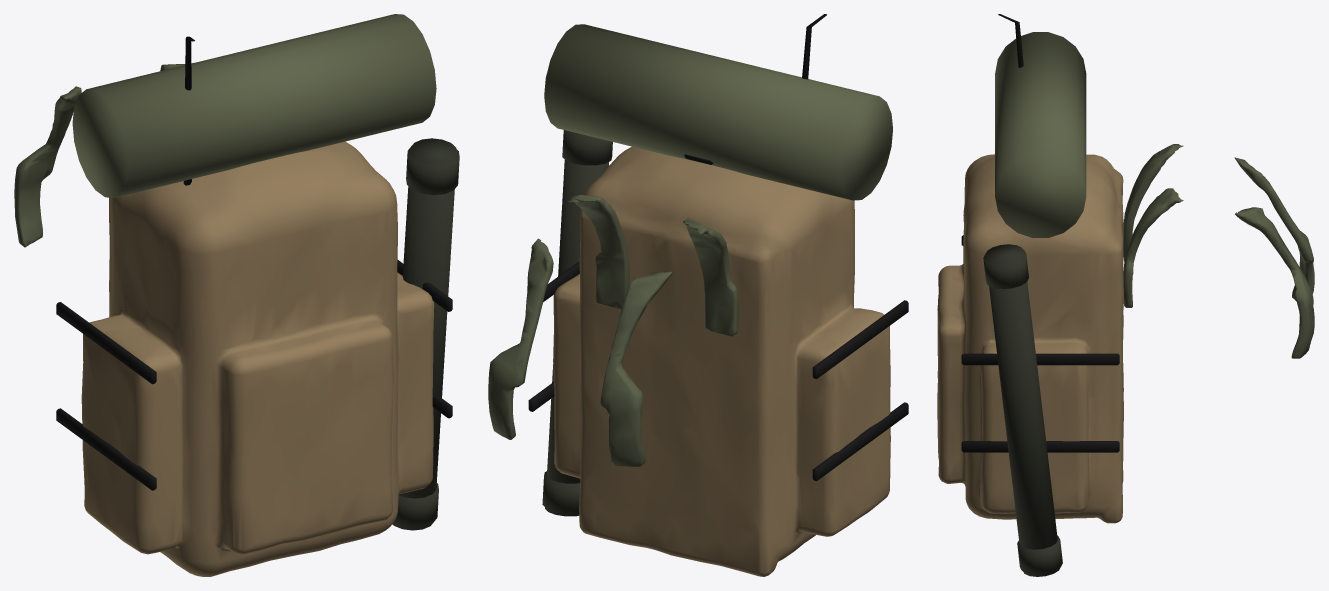
File: pack_ruck.glb
3 renders of one model, left to right at view 1: azimuth 30°, elevation 25°; view 2: azimuth 150°, elevation 25°; view 3: azimuth 270°, elevation 25°, orthographic. The views are drawn at different scales.
Visible parts, largest first — view 1: pack_ruck_LOD0; view 2: pack_ruck_LOD0; view 3: pack_ruck_LOD0.
Boxes of the visible parts, x1,y1,x2,y2 form: pack_ruck_LOD0: (14,14,459,576); pack_ruck_LOD0: (488,14,908,576); pack_ruck_LOD0: (937,14,1314,576).
Size of what is drawn, in the model's own units: 0.5411 by 0.8649 by 0.646.
